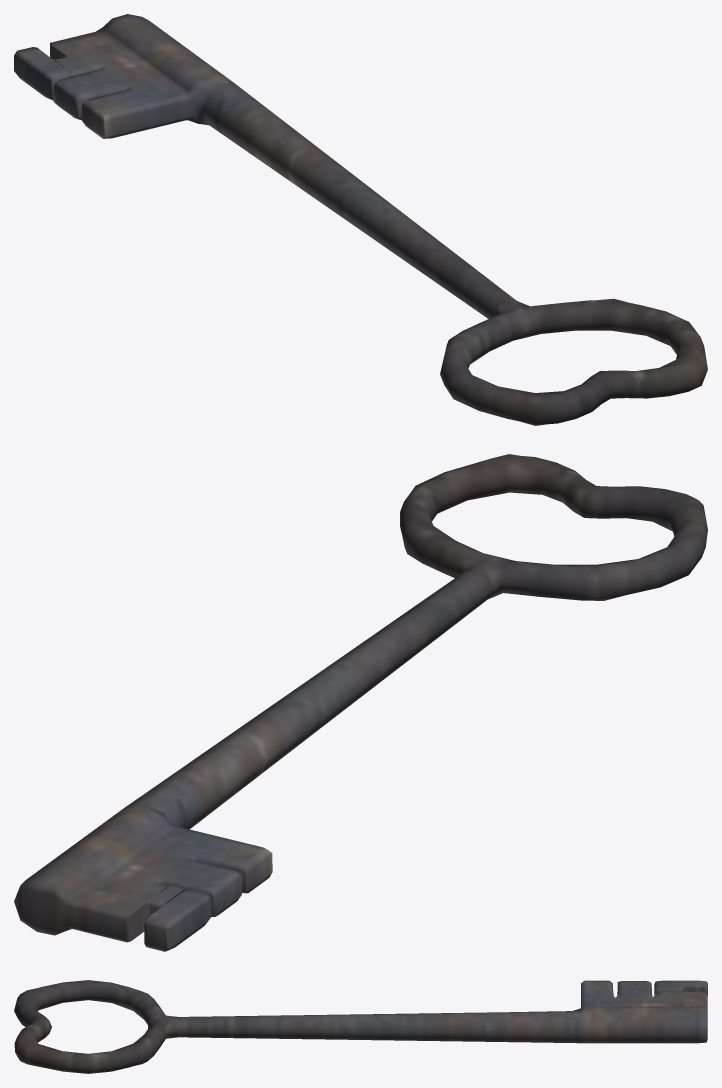
The model's file is Key.fbx.
3 renders of one model, top to bottom at view 1: azimuth 30°, elevation 25°; view 2: azimuth 150°, elevation 25°; view 3: azimuth 270°, elevation 25°, orthographic. The views are drawn at different scales.
Parts seen in each view (by area): view 1: Llave; view 2: Llave; view 3: Llave.
Part boxes in pixels (box(x1,y1,x2,y2)): Llave: box(14, 14, 707, 425); Llave: box(14, 454, 707, 951); Llave: box(14, 980, 707, 1073).
Bounding box in the file's own units: 5.02 × 0.8845 × 17.86.
